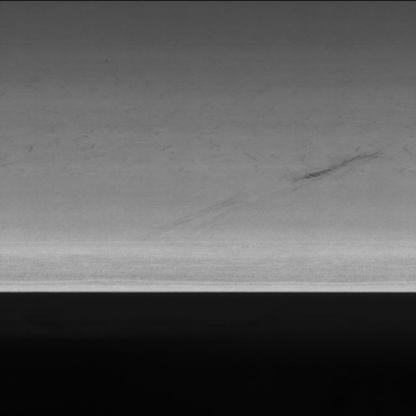silk_spot: (21, 81, 255, 171)
water_spot: (280, 139, 392, 189)
